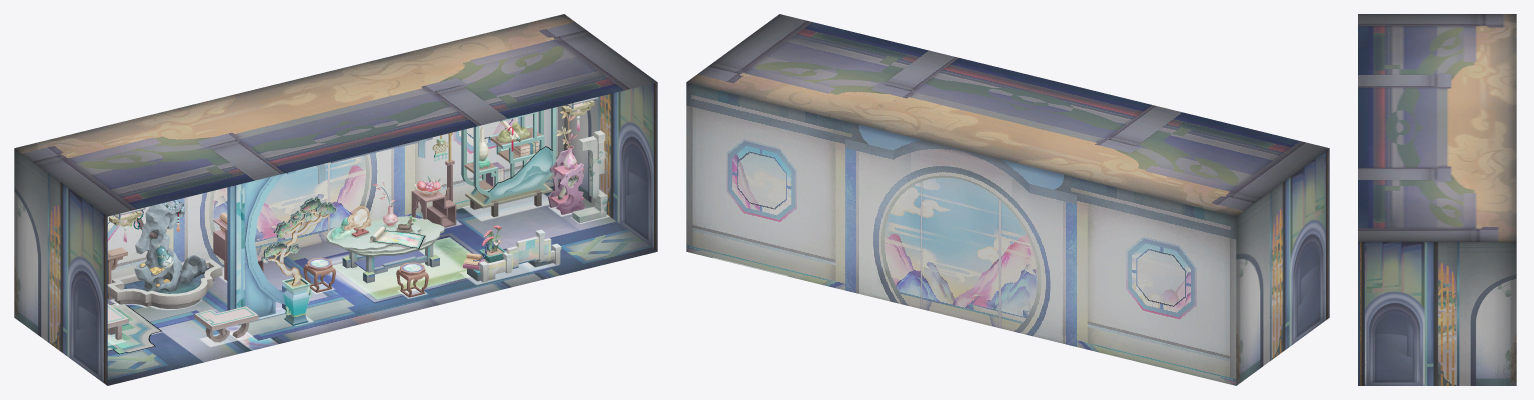
Rendered from gardenFantasy.glb.
3 renders of one model, left to right at view 1: azimuth 30°, elevation 25°; view 2: azimuth 150°, elevation 25°; view 3: azimuth 270°, elevation 25°, orthographic. The views are drawn at different scales.
Parts seen in each view (by area): view 1: ROOM_room, ROOM_floor, furni_gardenFantasy_column_01, furni_gardenFantasy_table_02, furni_gardenFantasy_pool_02, furni_gardenFantasy_pool_01, furni_gardenFantasy_shelf_02, furni_gardenFantasy_shelf_01, furni_gardenFantasy_plants_02, shadow_01.006, furni_gardenFantasy_bridge_02, furni_gardenFantasy_plantColumn_01 (+16 smaller); view 2: ROOM_room, ROOM_LDoor; view 3: ROOM_room, ROOM_RDoor.
Boxes of the visible parts, left/top/right/bottom form: ROOM_room: left=14, top=14, right=657, bottom=385; ROOM_floor: left=107, top=184, right=657, bottom=385; furni_gardenFantasy_column_01: left=227, top=170, right=295, bottom=317; furni_gardenFantasy_table_02: left=326, top=187, right=444, bottom=274; furni_gardenFantasy_pool_02: left=127, top=200, right=206, bottom=292; furni_gardenFantasy_pool_01: left=107, top=245, right=222, bottom=308; furni_gardenFantasy_shelf_02: left=464, top=112, right=544, bottom=197; furni_gardenFantasy_shelf_01: left=461, top=107, right=556, bottom=216; furni_gardenFantasy_plants_02: left=261, top=196, right=336, bottom=315; shadow_01.006: left=327, top=244, right=465, bottom=294; furni_gardenFantasy_bridge_02: left=464, top=225, right=561, bottom=273; furni_gardenFantasy_plantColumn_01: left=572, top=130, right=607, bottom=223; ROOM_room: left=686, top=14, right=1329, bottom=385; ROOM_LDoor: left=1297, top=251, right=1315, bottom=341; ROOM_room: left=1358, top=14, right=1516, bottom=385; ROOM_RDoor: left=1381, top=320, right=1413, bottom=385.
Bounding box in the file's own units: 7.49 × 2.2 × 2.24.
Materials: 5 (5 with a texture image).
